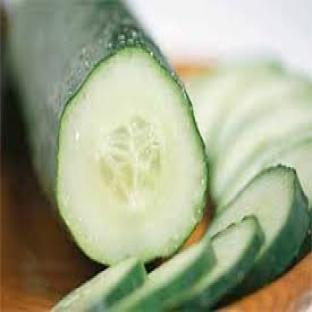Cucumber: (208, 166, 308, 293), (212, 99, 311, 204), (187, 60, 280, 156), (172, 217, 264, 310), (215, 72, 311, 156), (112, 239, 215, 311), (218, 130, 311, 209), (53, 258, 146, 311), (266, 133, 311, 207)
